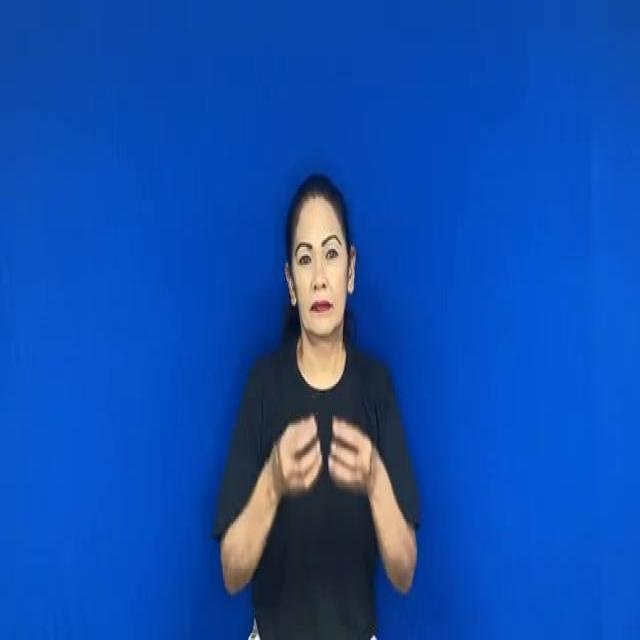egg: (260, 407, 385, 514)
